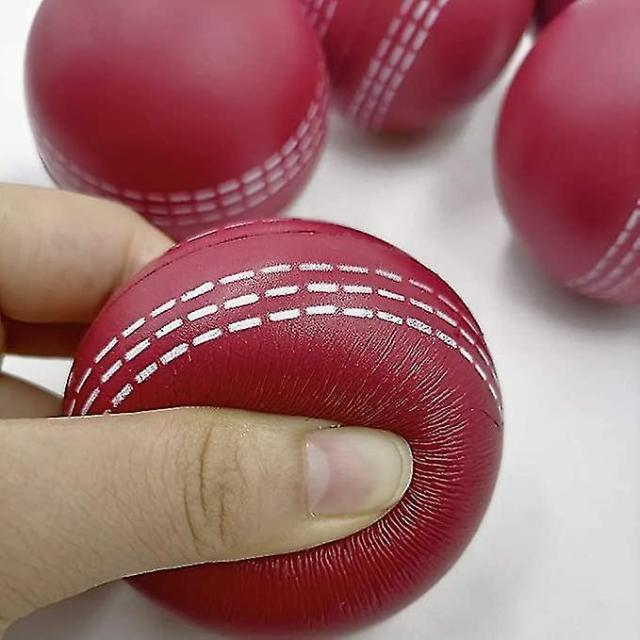cricket ball: (62, 217, 506, 639)
